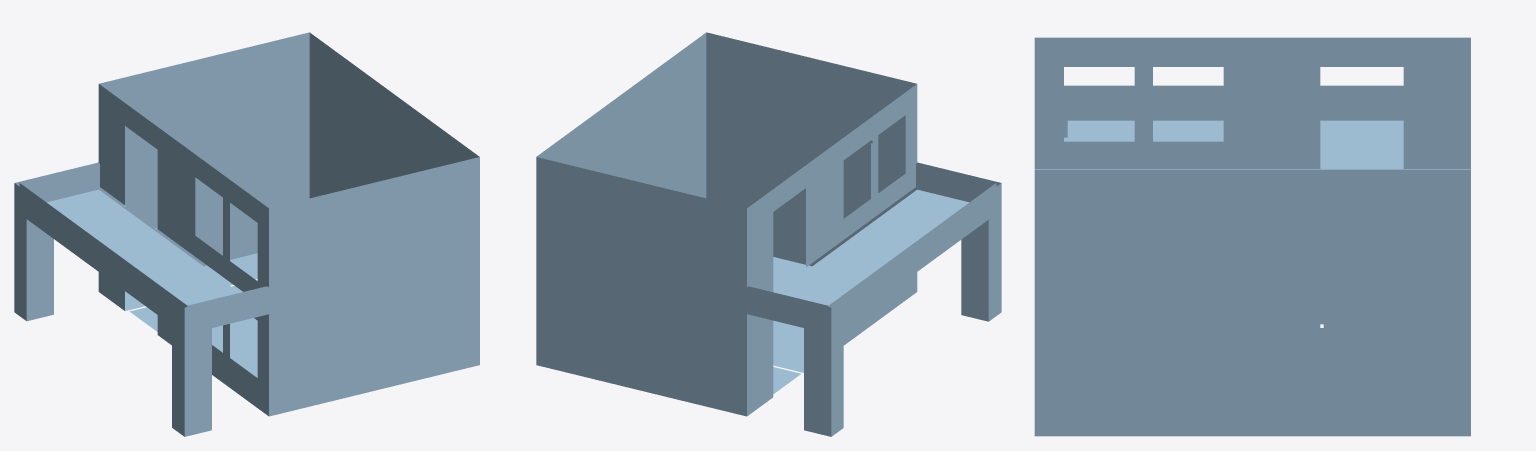
File: Bld_C_low_L4_A.fbx
3 views of the same model, side by side, from view 1: azimuth 30°, elevation 25°; view 2: azimuth 150°, elevation 25°; view 3: azimuth 270°, elevation 25° (orthographic). The views are drawn at different scales.
Visible parts, largest first — view 1: Bld_C_low_L4_A_LOD0; view 2: Bld_C_low_L4_A_LOD0; view 3: Bld_C_low_L4_A_LOD0.
Boxes of the visible parts, x1=… form: Bld_C_low_L4_A_LOD0: x1=14, y1=32, x2=479, y2=436; Bld_C_low_L4_A_LOD0: x1=536, y1=32, x2=1001, y2=436; Bld_C_low_L4_A_LOD0: x1=1034, y1=37, x2=1470, y2=436.
Size of what is drawn, in the model's own units: 1300 by 1002 by 1435.
1 material, 1 textured.
